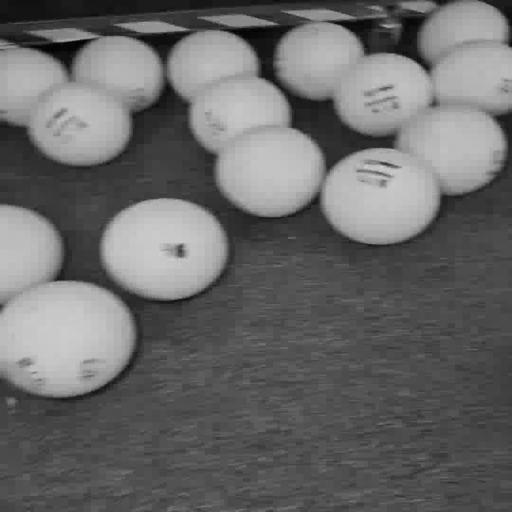fuel: (0, 281, 137, 398), (101, 198, 229, 300), (320, 148, 441, 245), (394, 105, 508, 195), (214, 127, 326, 217), (28, 82, 132, 167), (333, 53, 433, 136), (188, 76, 292, 154), (274, 22, 365, 101), (72, 36, 164, 113), (166, 30, 260, 101), (0, 204, 64, 306), (430, 41, 511, 115), (418, 0, 510, 64), (0, 48, 69, 126)
